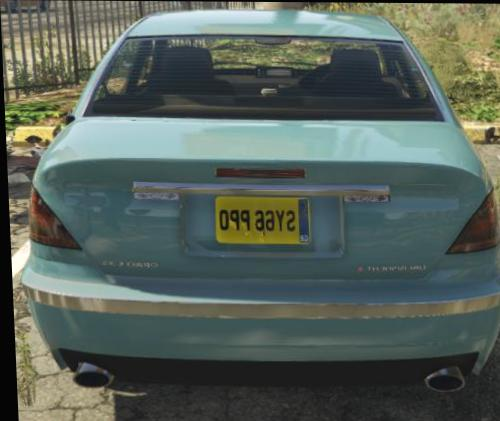License_Plate: (203, 188, 319, 256)
